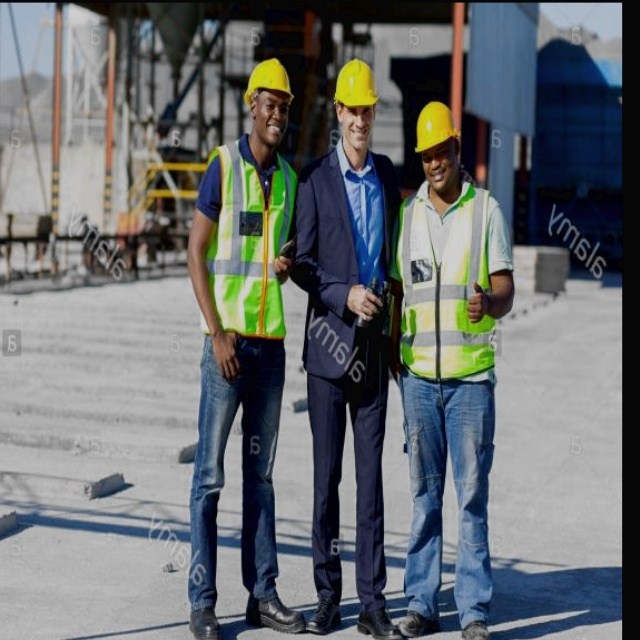Con_Casco: (244, 59, 294, 141), (333, 58, 380, 142), (415, 103, 460, 176)
Con_Chaleco: (195, 147, 298, 332), (398, 185, 492, 375)
Sin_Chaleco: (299, 157, 394, 356)
